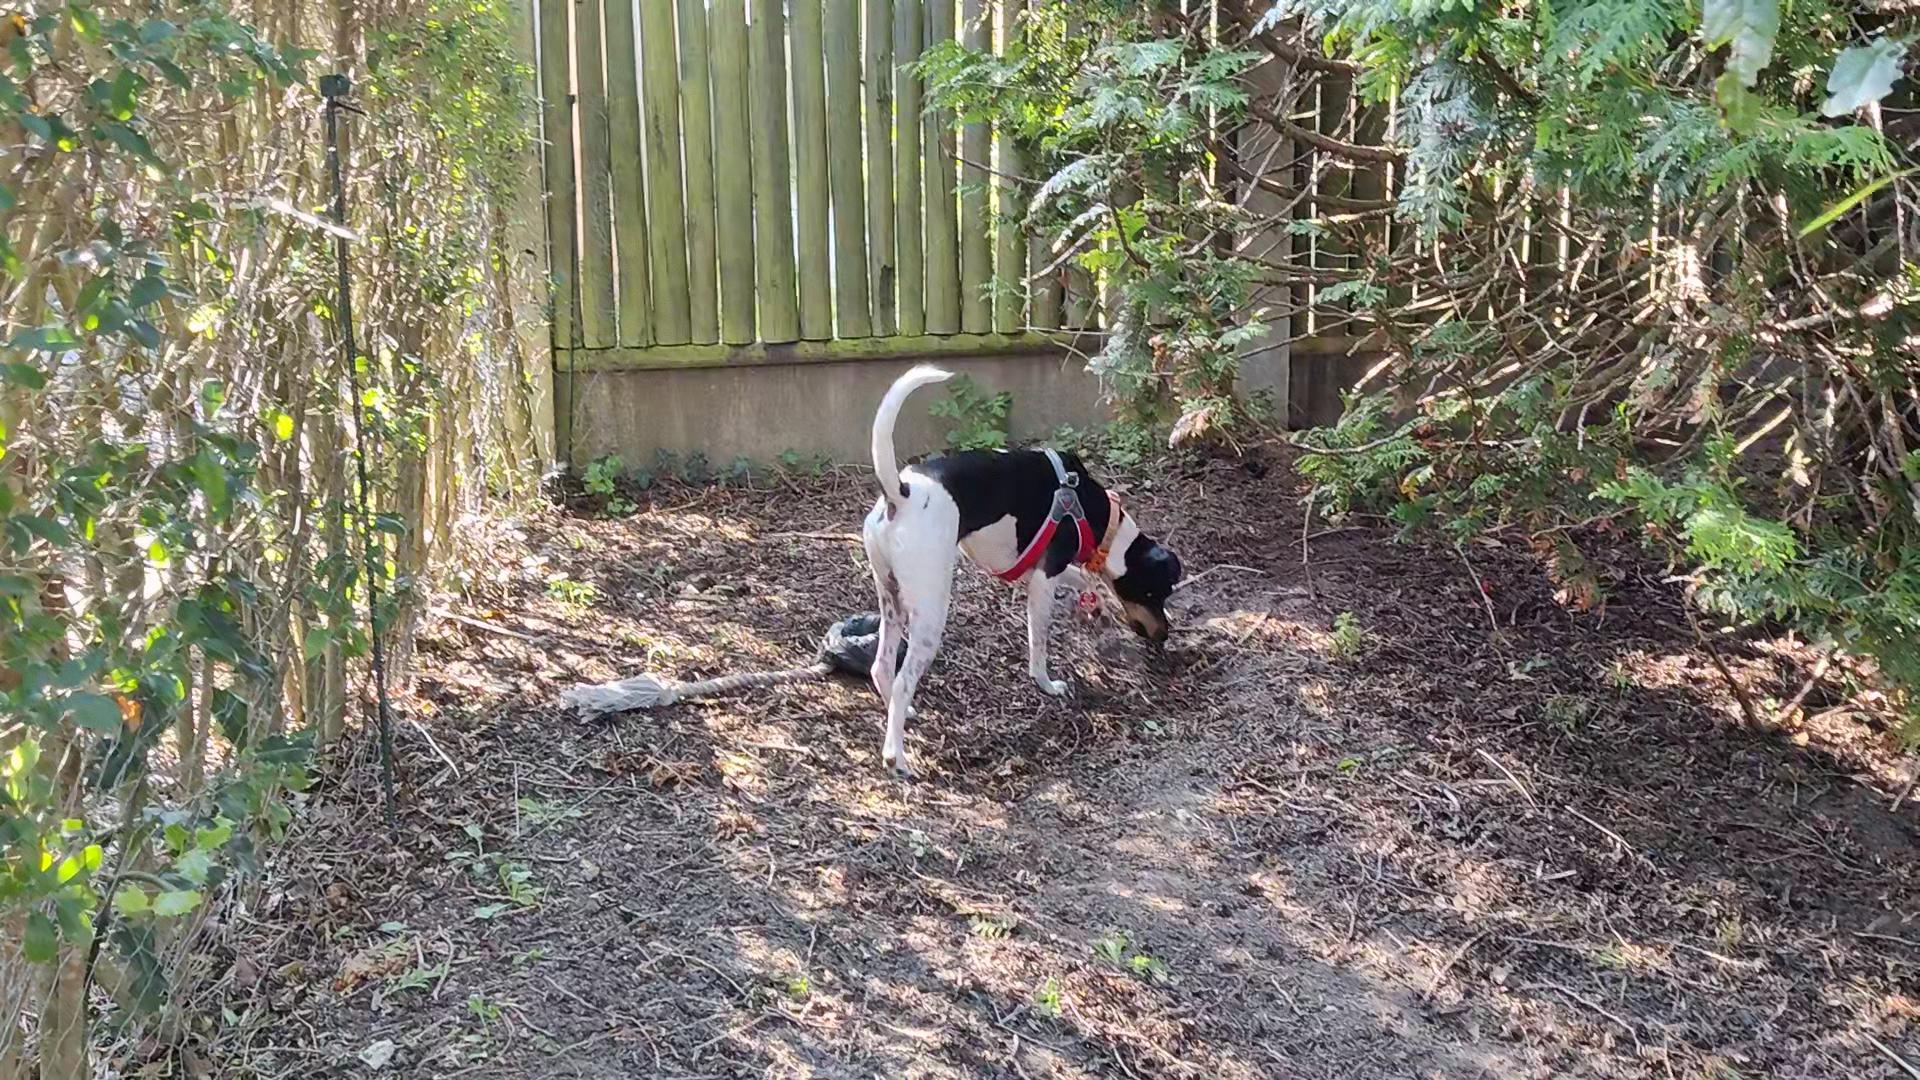Dog: (847, 353, 1192, 783)
